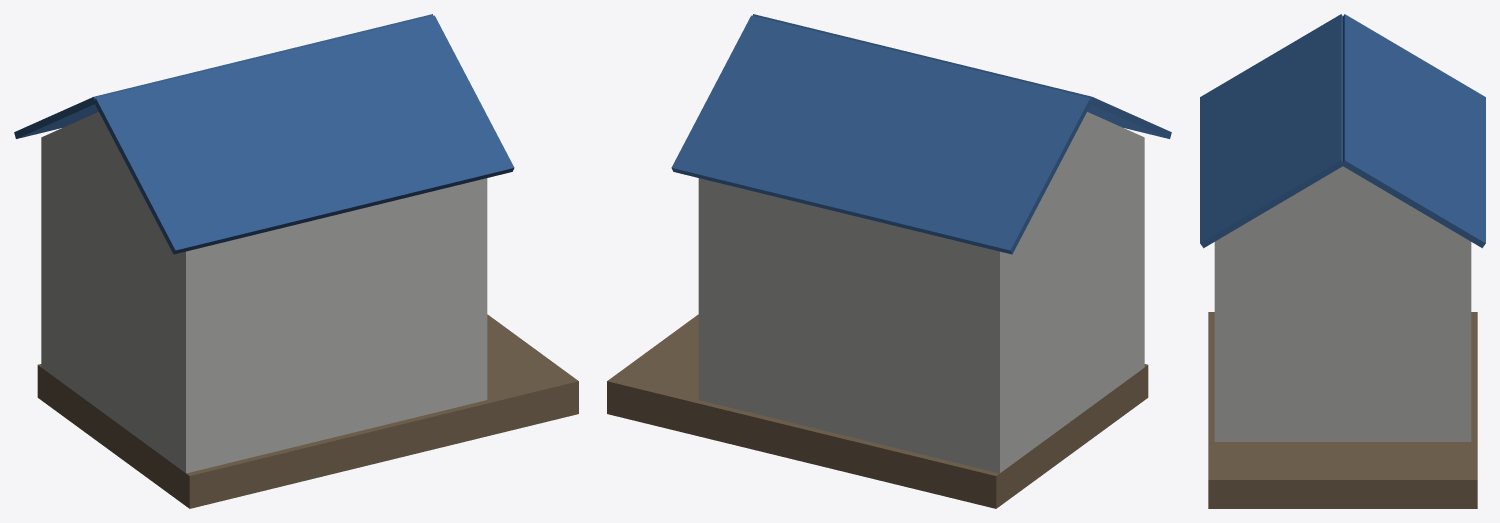
File: SM_Prop_coast_beachhut_4_LOD2.glb
The picture shows the model from 3 angles, left to right: view 1: azimuth 30°, elevation 25°; view 2: azimuth 150°, elevation 25°; view 3: azimuth 270°, elevation 25°; orthographic projection. The views are drawn at different scales.
Visible parts, largest first — view 1: SM_Prop_coast_beachhut_4_LOD2; view 2: SM_Prop_coast_beachhut_4_LOD2; view 3: SM_Prop_coast_beachhut_4_LOD2.
Part boxes in pixels (<box>): SM_Prop_coast_beachhut_4_LOD2: <box>14,14,578,508</box>; SM_Prop_coast_beachhut_4_LOD2: <box>607,14,1171,508</box>; SM_Prop_coast_beachhut_4_LOD2: <box>1200,14,1485,508</box>.
Bounding box in the file's own units: 3.25 × 2.74 × 2.23.
